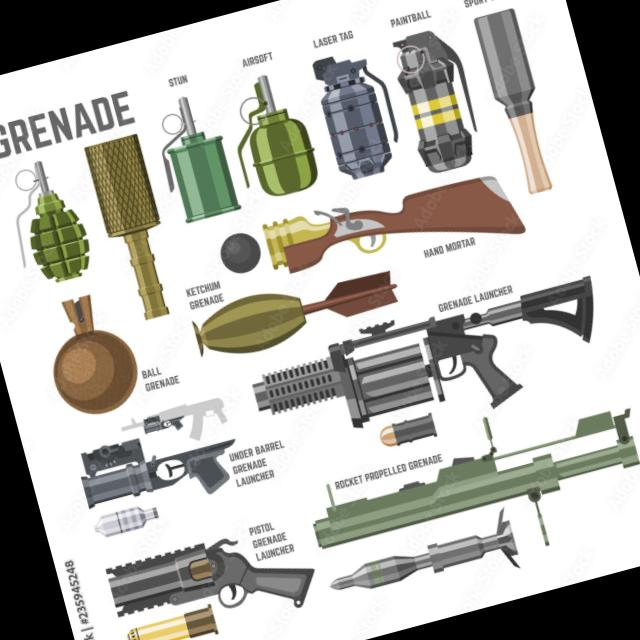Weapon: (241, 262, 622, 471), (300, 394, 640, 574), (102, 514, 324, 640), (64, 410, 246, 532)
